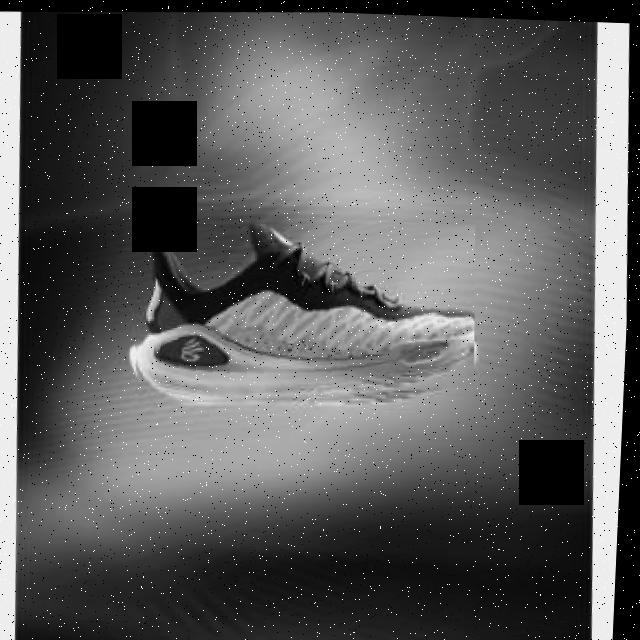shoe: (127, 210, 483, 414)
